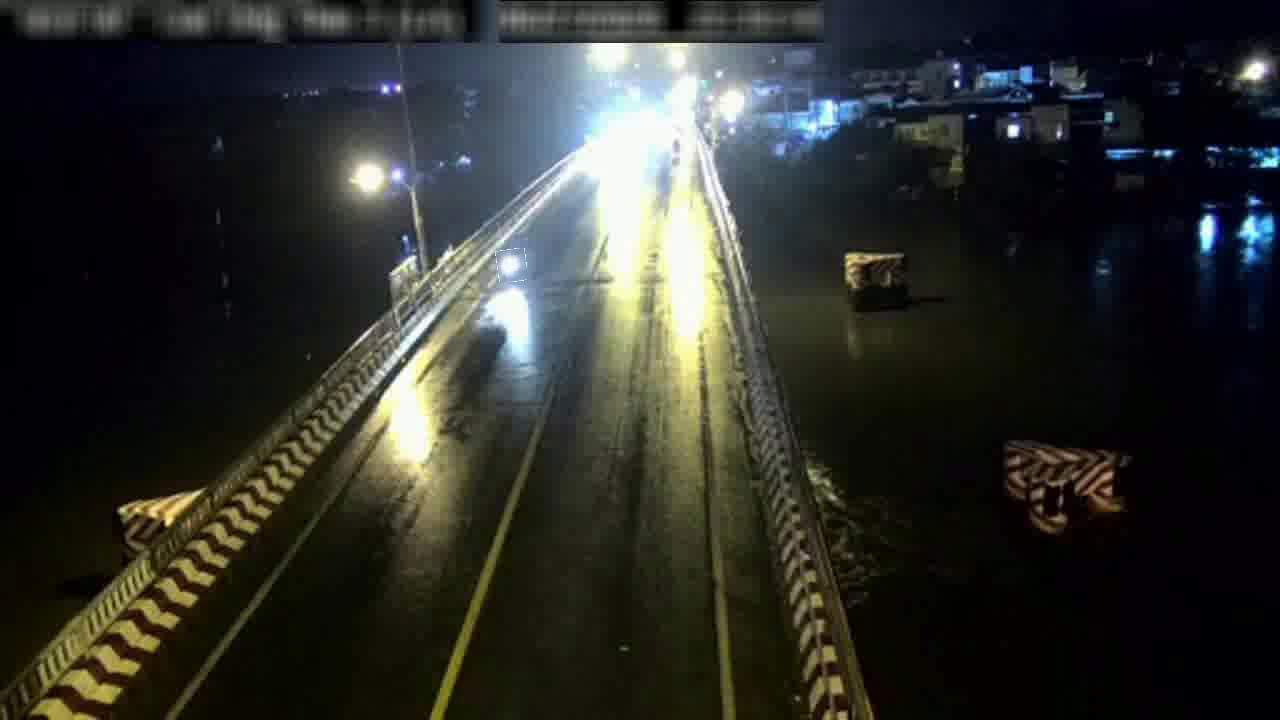motorbike: (496, 249, 527, 283)
